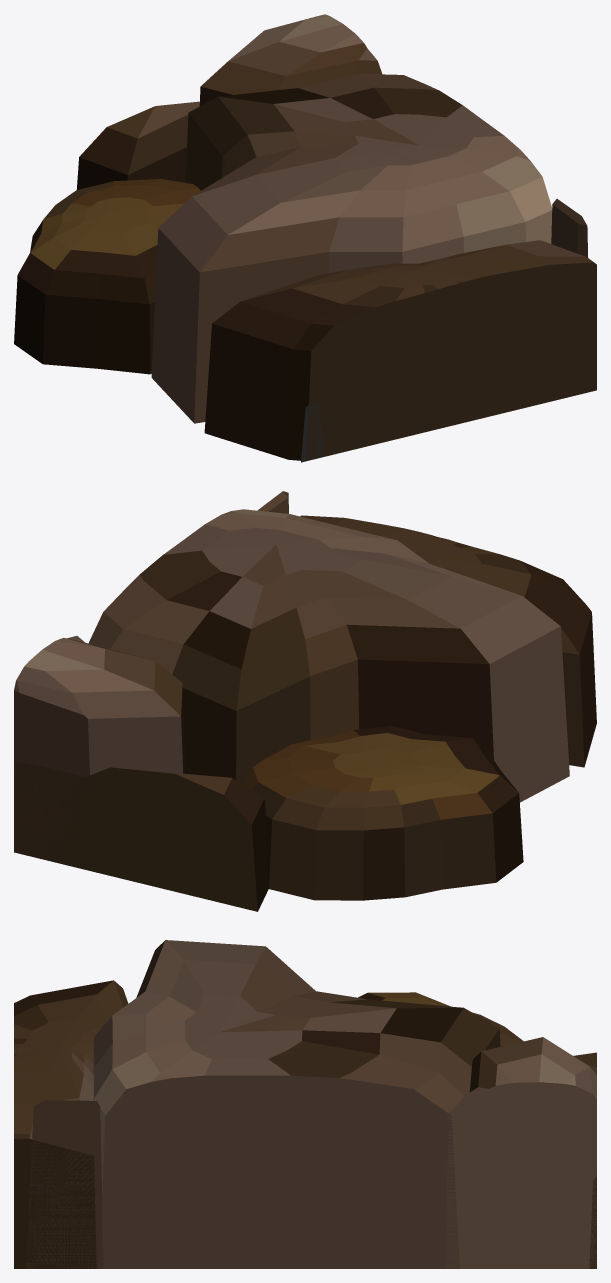
File: newshr-191.glb
The picture shows the model from 3 angles, top to bottom: view 1: azimuth 30°, elevation 25°; view 2: azimuth 150°, elevation 25°; view 3: azimuth 270°, elevation 25°; orthographic projection. The views are drawn at different scales.
Parts seen in each view (by area): view 1: newshr-191; view 2: newshr-191; view 3: newshr-191.
Boxes of the visible parts, x1,y1,x2,y2 form: newshr-191: (14, 14, 596, 462); newshr-191: (14, 491, 596, 911); newshr-191: (14, 940, 596, 1268).
Size of the model in its own units: 1.86 by 0.872 by 2.33.
